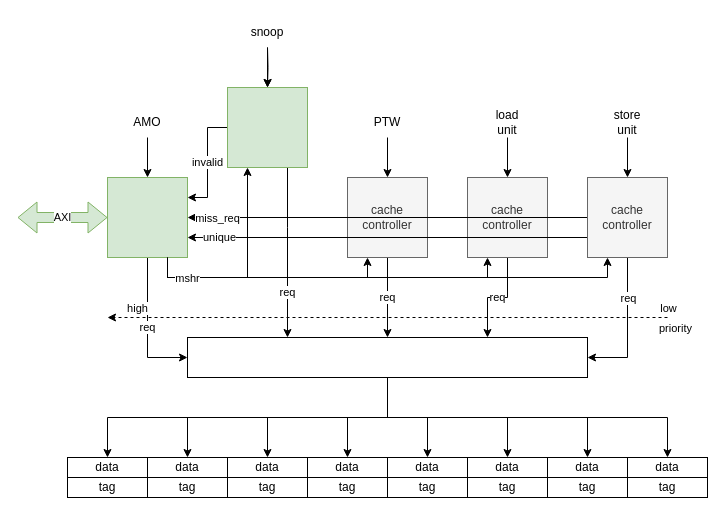
Image size: 725x515. Some labels were removed from this diagram. Here are the shapes that lost their labels. From the top down, the centre of each, then its label:
At pixel 267 127: "ACE cache controller".
At pixel 147 217: "miss handler".
At pixel 387 357: "tag_cmp".
